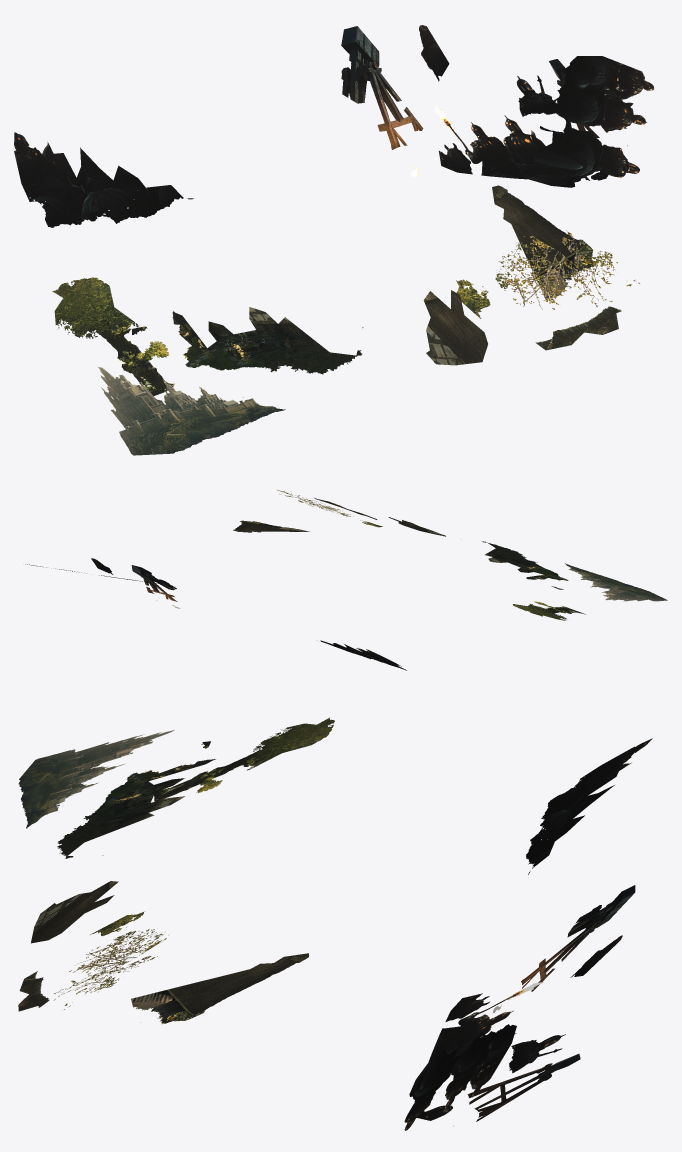
The model's file is map_3d_chapter_06.FBX.
3 renders of one model, top to bottom at view 1: azimuth 30°, elevation 25°; view 2: azimuth 150°, elevation 25°; view 3: azimuth 270°, elevation 25°, orthographic. The views are drawn at different scales.
Visible parts, largest first — view 1: chapter_06_elements_01; view 2: chapter_06_elements_01; view 3: chapter_06_elements_01.
Part boxes in pixels (<box>): chapter_06_elements_01: <box>14,25,654,455</box>; chapter_06_elements_01: <box>25,490,667,670</box>; chapter_06_elements_01: <box>18,717,652,1130</box>.
Size of the model in its own units: 266 by 45.82 by 180.
